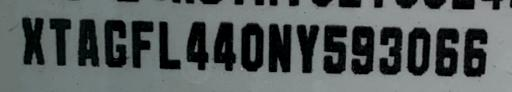letter: (264, 19, 294, 73), (238, 19, 266, 73), (461, 23, 489, 77), (294, 20, 320, 76), (376, 22, 404, 74), (128, 18, 156, 69), (211, 18, 237, 72), (102, 16, 128, 69), (405, 23, 431, 76), (434, 23, 460, 76), (156, 17, 182, 69), (184, 19, 210, 71), (349, 23, 375, 75), (46, 15, 72, 66), (20, 16, 46, 67), (322, 23, 348, 73), (76, 15, 100, 67)
